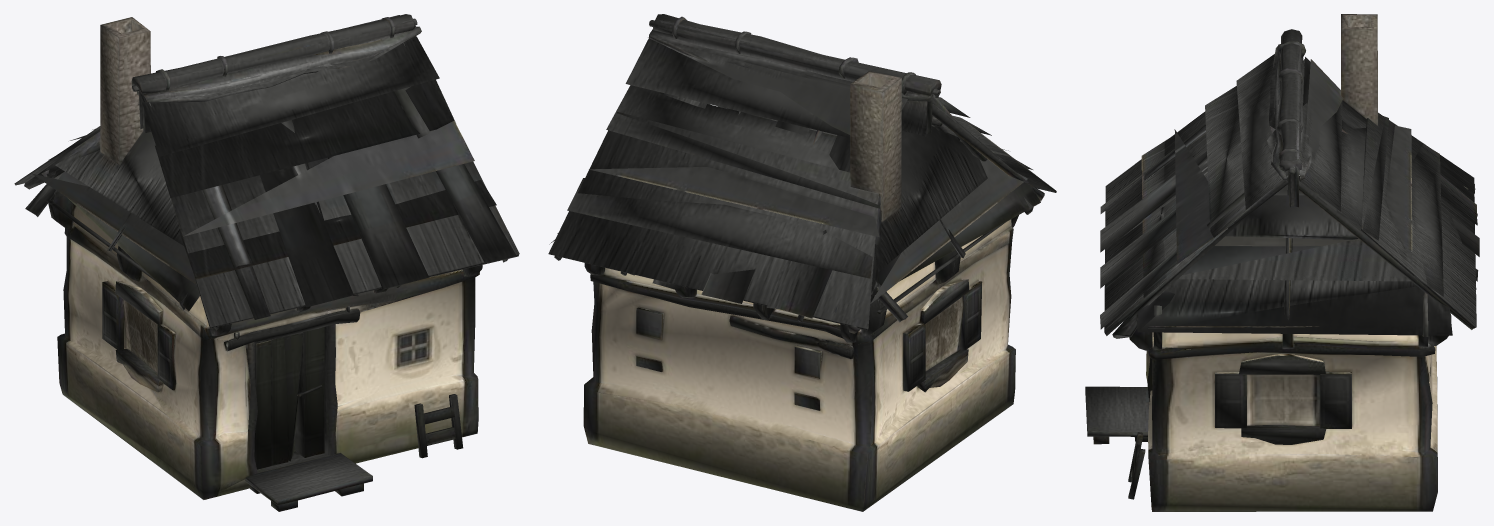
File: world-house-a.glb
3 renders of one model, left to right at view 1: azimuth 30°, elevation 25°; view 2: azimuth 150°, elevation 25°; view 3: azimuth 270°, elevation 25°, orthographic. The views are drawn at different scales.
Size of the model in its own units: 2.9 by 3.16 by 3.
1 material, 1 textured.
